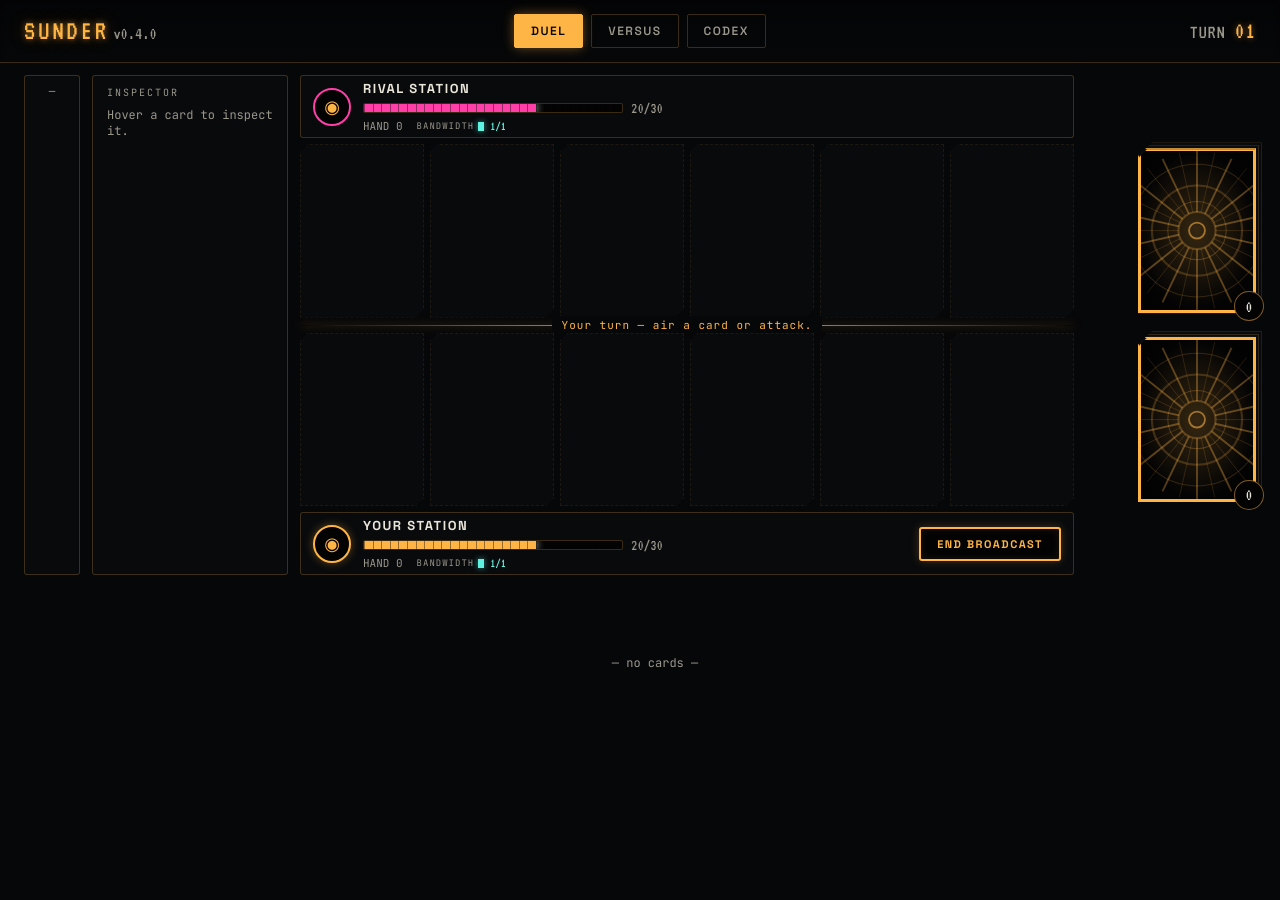
Test: App — versus › hosts from the VERSUS tab and shows the code
This screenshot has width=1280, height=900.
Click the button "VERSUS". click: {"x": 635, "y": 31}
box: x1=591 y1=14 x2=679 y2=48
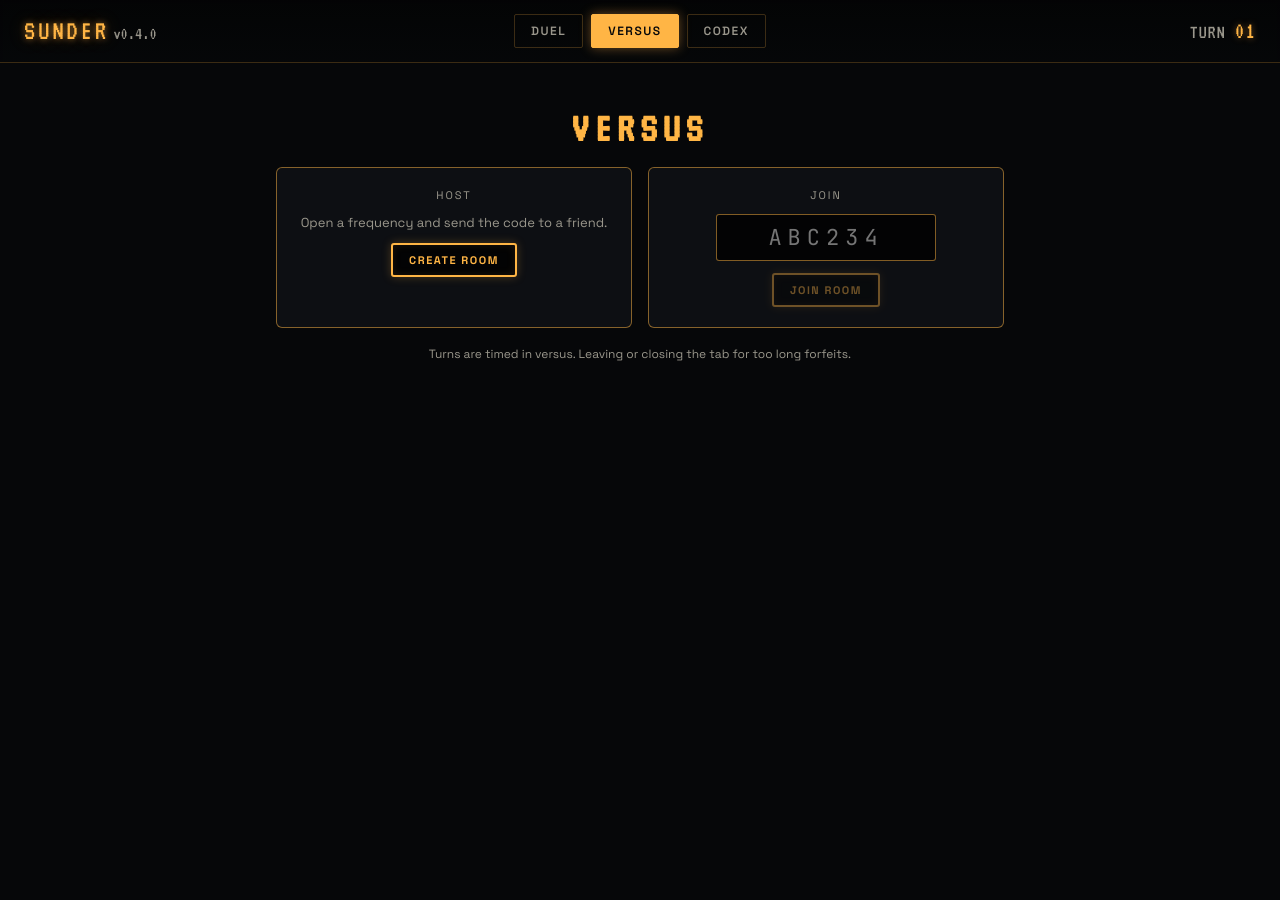
Click the button "CREATE ROOM". click: {"x": 454, "y": 260}
box: x1=391 y1=243 x2=517 y2=277
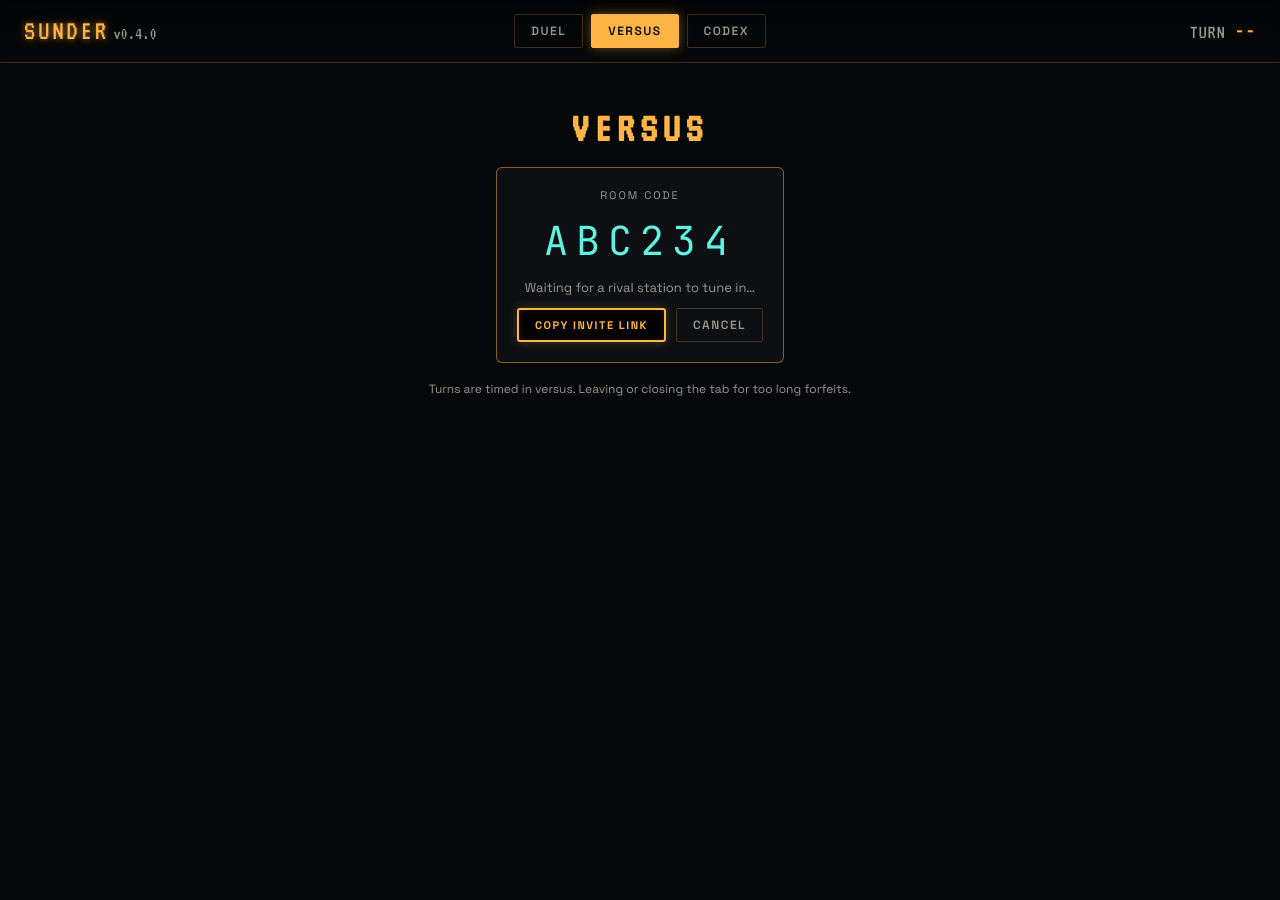
Check: the text with test id "room-code" reads "ABC234", box x1=544 y1=214 x2=736 y2=267
